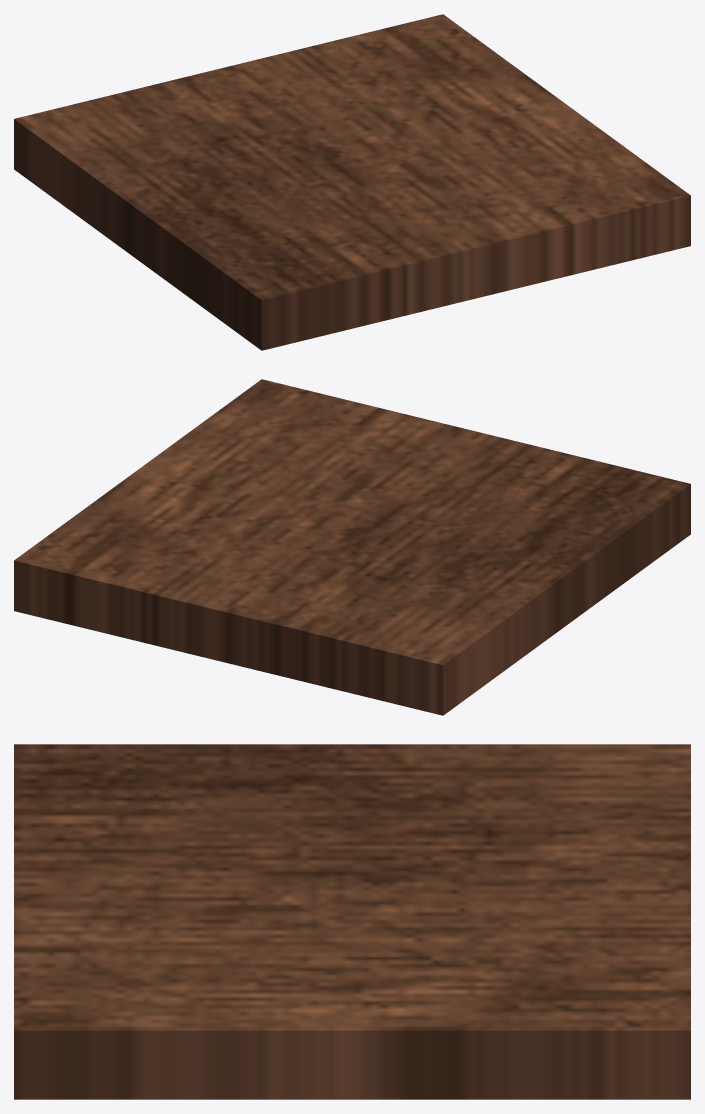
File: ceilig.fbx
3 renders of one model, top to bottom at view 1: azimuth 30°, elevation 25°; view 2: azimuth 150°, elevation 25°; view 3: azimuth 270°, elevation 25°, orthographic. The views are drawn at different scales.
Parts seen in each view (by area): view 1: ceiling; view 2: ceiling; view 3: ceiling.
Part boxes in pixels (x1,y1,x2,y2): ceiling: (14,14,690,350); ceiling: (14,379,690,715); ceiling: (14,744,690,1099).
Size of the model in its own units: 200 by 22.5 by 200.
